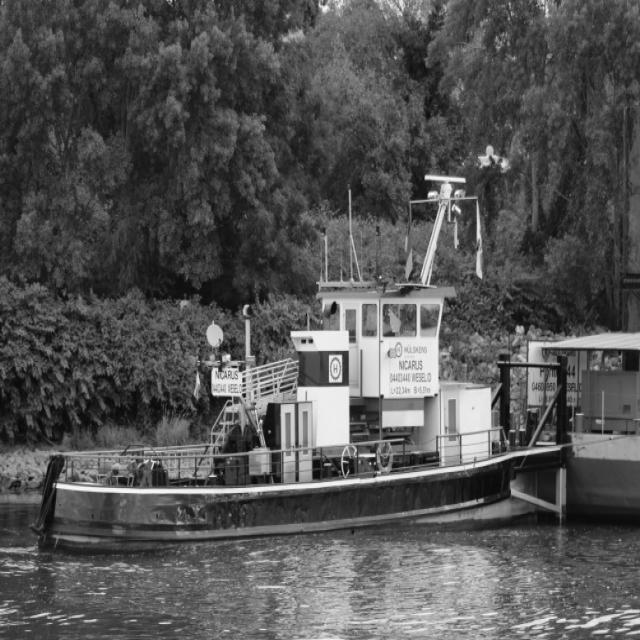tugboat: (28, 173, 584, 567)
